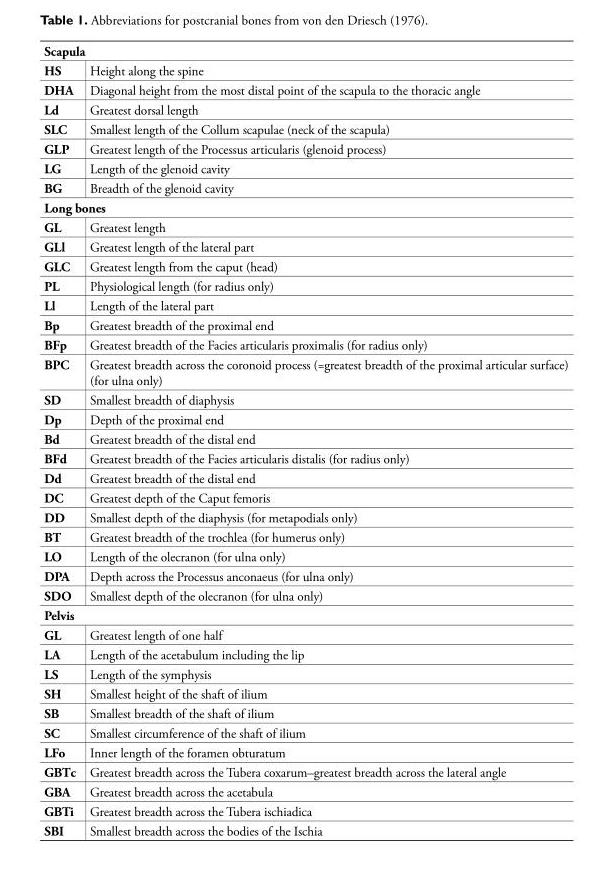table: (43, 42, 567, 839)
table column: (82, 42, 567, 839), (43, 42, 82, 839)
table projected row header: (43, 198, 567, 217), (43, 605, 567, 624), (43, 42, 567, 60)
table row: (43, 354, 567, 390), (43, 60, 567, 80), (43, 99, 567, 119), (43, 119, 567, 139), (43, 158, 567, 178), (43, 178, 567, 198), (43, 217, 567, 237), (43, 256, 567, 276), (43, 295, 567, 315), (43, 315, 567, 335), (43, 409, 567, 429), (43, 448, 567, 468), (43, 468, 567, 488), (43, 507, 567, 527), (43, 546, 567, 566), (43, 585, 567, 605), (43, 624, 567, 644), (43, 644, 567, 664), (43, 683, 567, 703), (43, 703, 567, 723), (43, 742, 567, 762), (43, 781, 567, 801), (43, 801, 567, 821), (43, 80, 567, 99), (43, 139, 567, 158), (43, 198, 567, 217), (43, 237, 567, 256), (43, 276, 567, 295), (43, 335, 567, 354), (43, 390, 567, 409), (43, 429, 567, 448), (43, 488, 567, 507), (43, 527, 567, 546), (43, 566, 567, 585), (43, 605, 567, 624), (43, 664, 567, 683), (43, 723, 567, 742), (43, 762, 567, 781), (43, 42, 567, 60), (43, 821, 567, 839)
